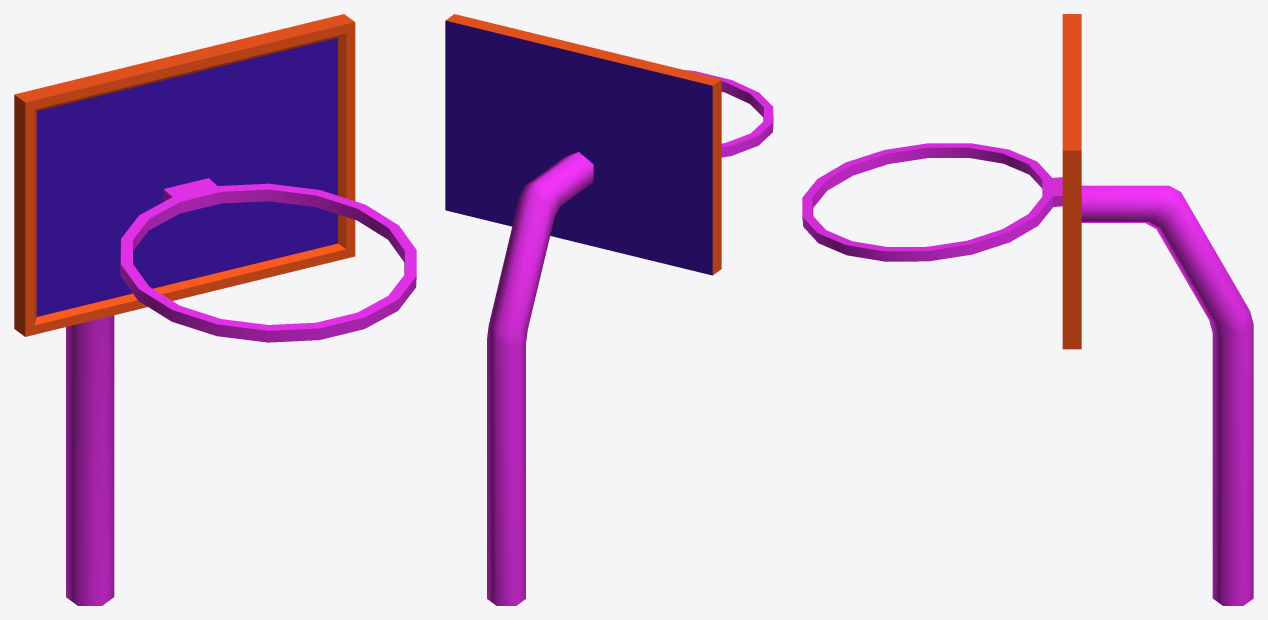
File: Canasta.FBX
3 views of the same model, side by side, from view 1: azimuth 30°, elevation 25°; view 2: azimuth 150°, elevation 25°; view 3: azimuth 270°, elevation 25° (orthographic). The views are drawn at different scales.
Parts seen in each view (by area): view 1: Line008; view 2: Line008; view 3: Line008.
Boxes of the visible parts, box(x1,y1,x2,y2) form: Line008: box(14, 14, 416, 605); Line008: box(445, 14, 773, 605); Line008: box(802, 14, 1253, 605).
Bounding box in the file's own units: 208 × 366 × 290.
